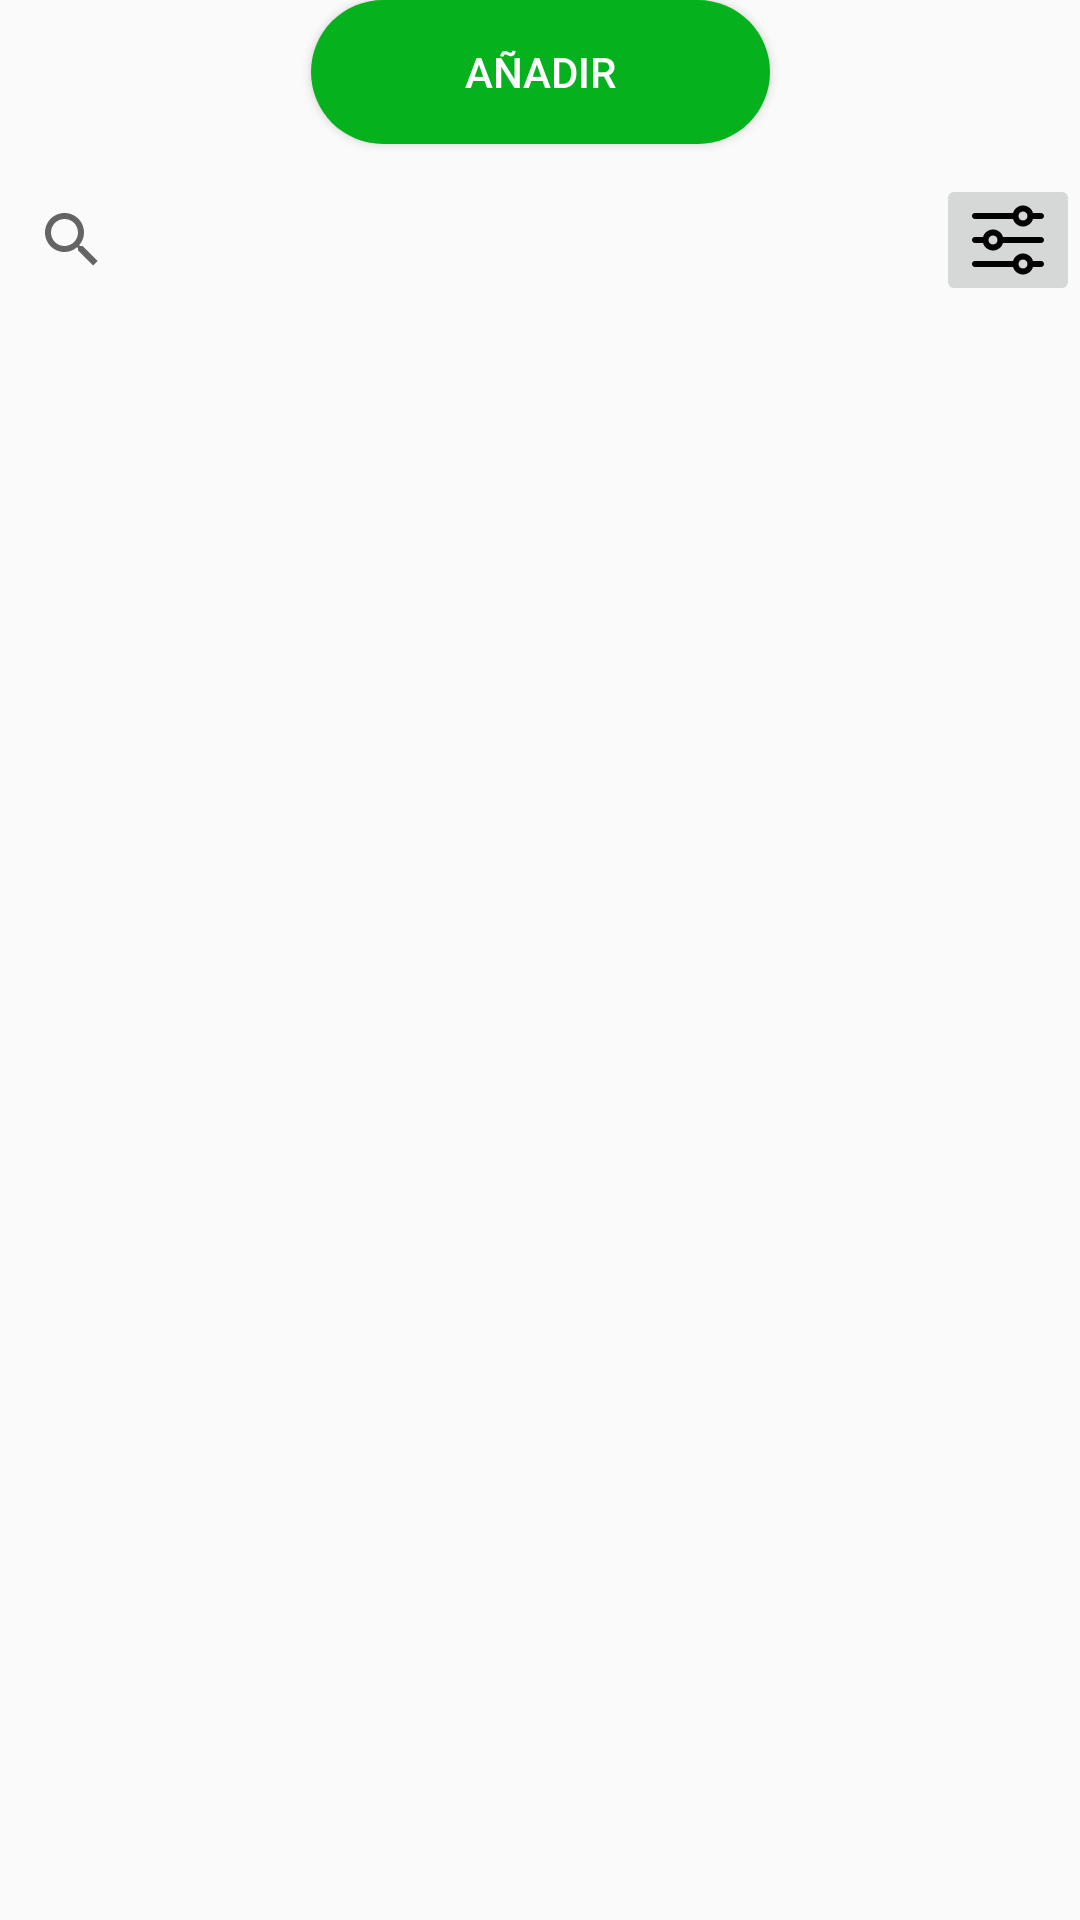

Where to tap for icons on this 1080px×1920px app screen, as point (x, y):
filtros: point (1008, 240)
